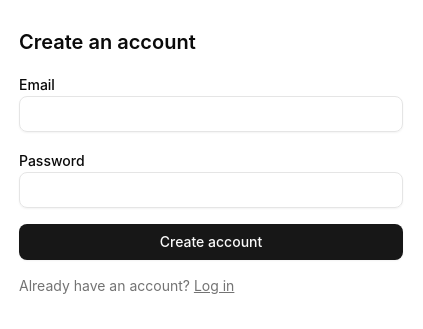
Test: RegisterPage › shows an inline error for a duplicate email without navigating
The image size is (423, 329).
Step 1. Type "user@example.com" into the field labelled "Email" → (211, 114), box [19,96,403,132]
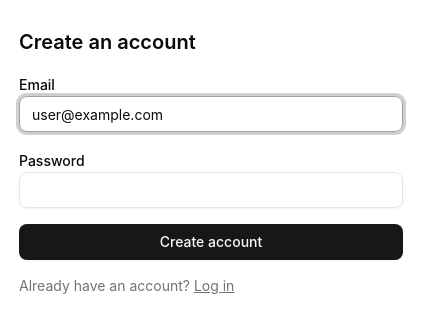
Step 2. Type "password123" into the password field labelled "Password" → (211, 190), box [19,172,403,208]
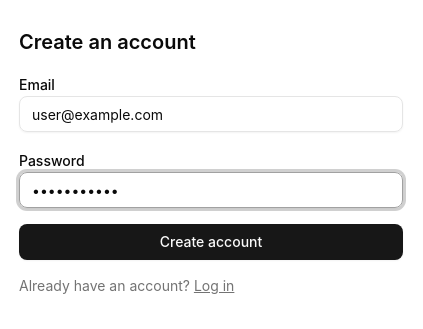
Step 3. Click the button "Create account" → (211, 242), box [19,224,403,260]
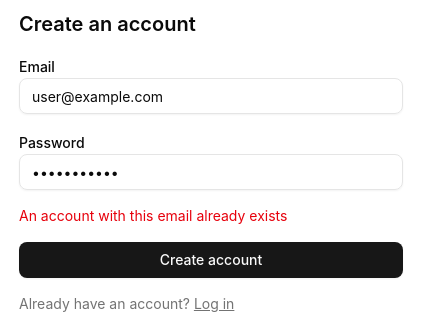
Expected: the message reads "An account with this email already exists", [19,207,287,224]
